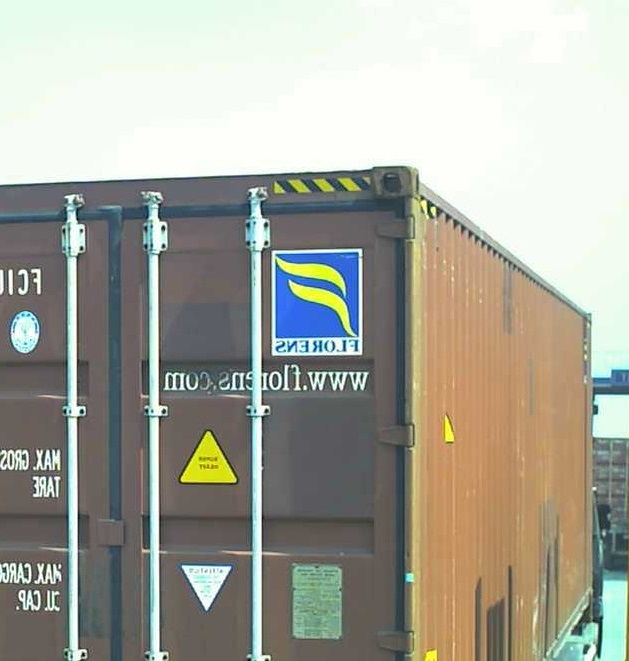container_door: (2, 166, 420, 661)
